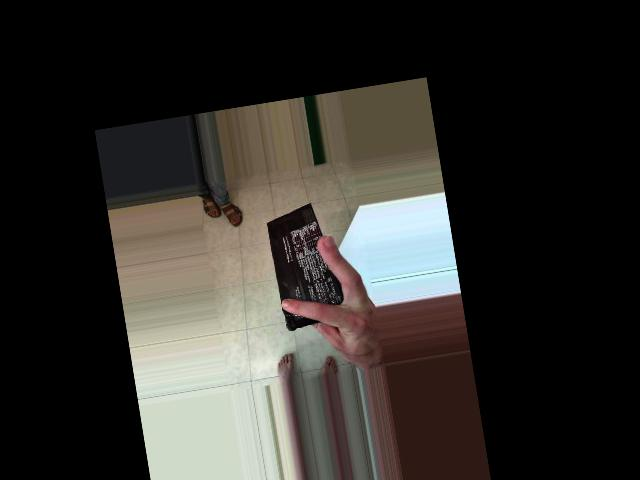chocolate: (200, 221, 338, 316)
